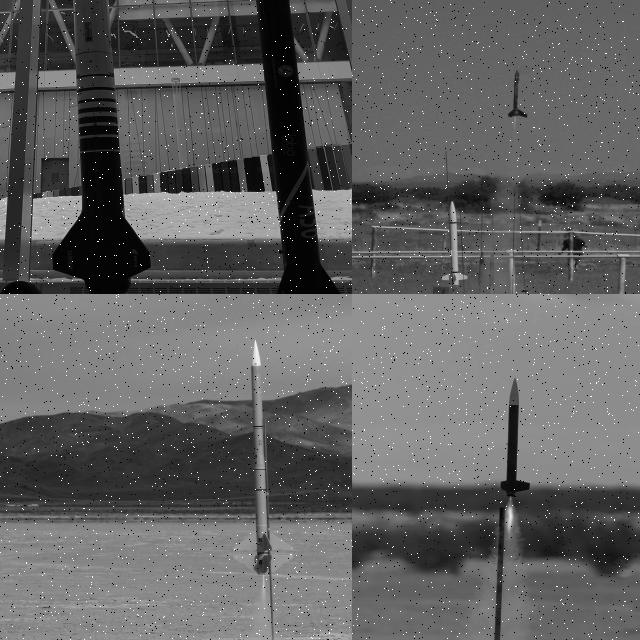Rocket: (52, 0, 151, 294), (256, 0, 341, 294), (232, 338, 296, 574), (500, 377, 531, 498), (507, 68, 529, 118)
